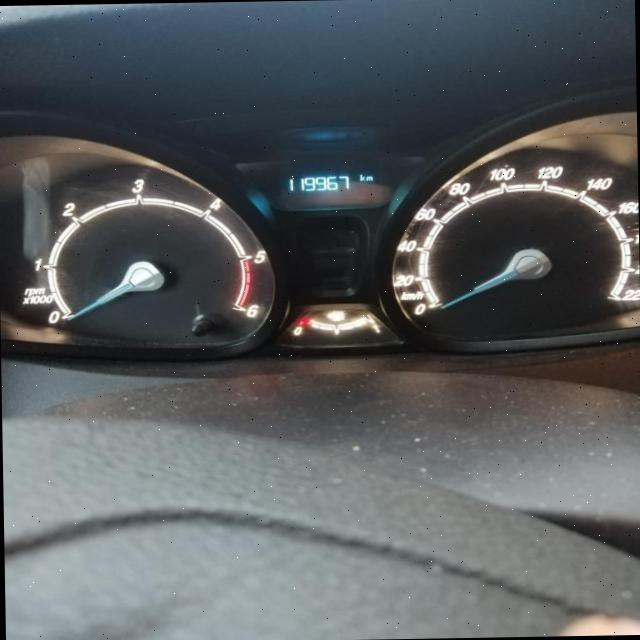odometer: (276, 166, 382, 202)
